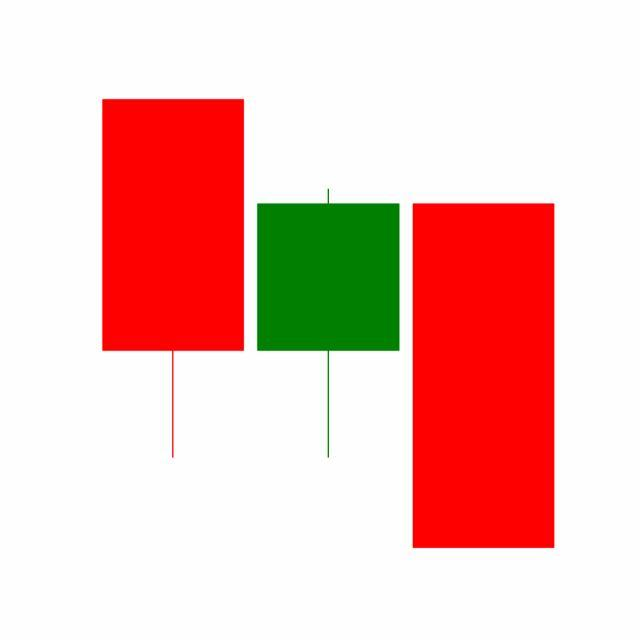Marubozu: (406, 200, 562, 551)
